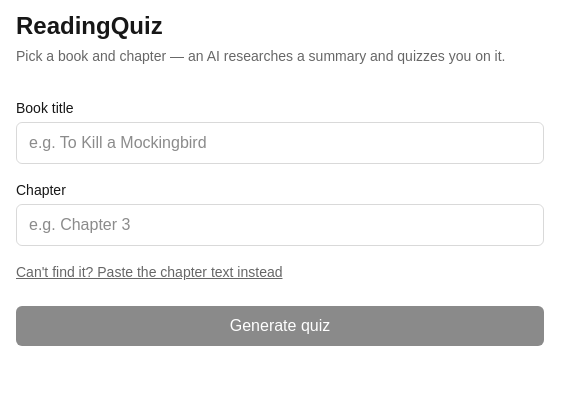
Test: Page › shows the server's error message when the response isn't ok
This screenshot has width=561, height=397.
Type "Dune" into the field labelled "Book title".
click(280, 143); type("Dune")  # box x1=16 y1=122 x2=544 y2=164
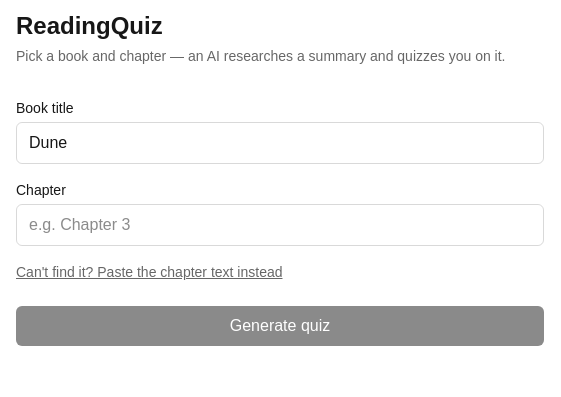
Type "Chapter 1" into the field labelled "Chapter".
click(280, 225); type("Chapter 1")  # box x1=16 y1=204 x2=544 y2=246
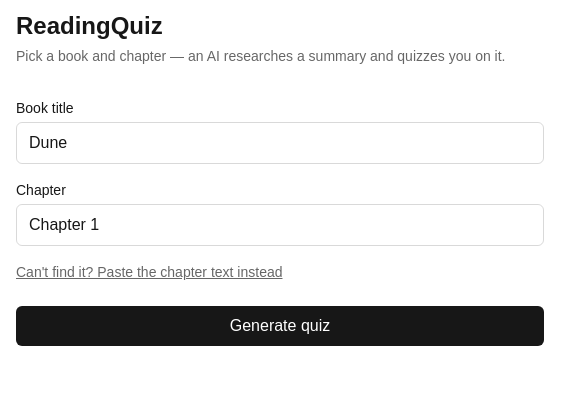
Click the button "Generate quiz".
click(280, 326)  # box x1=16 y1=306 x2=544 y2=346
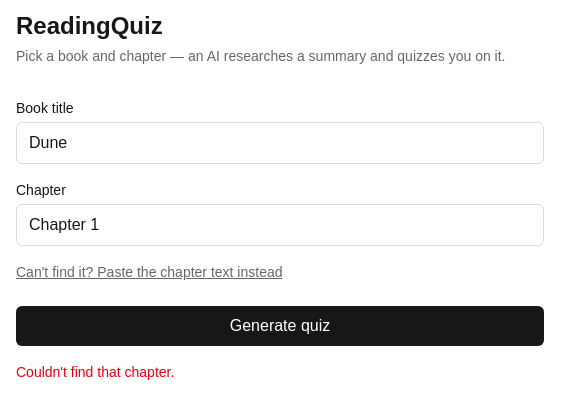
Check: the text "Couldn't find that chapter." is shown, box x1=16 y1=364 x2=174 y2=380
